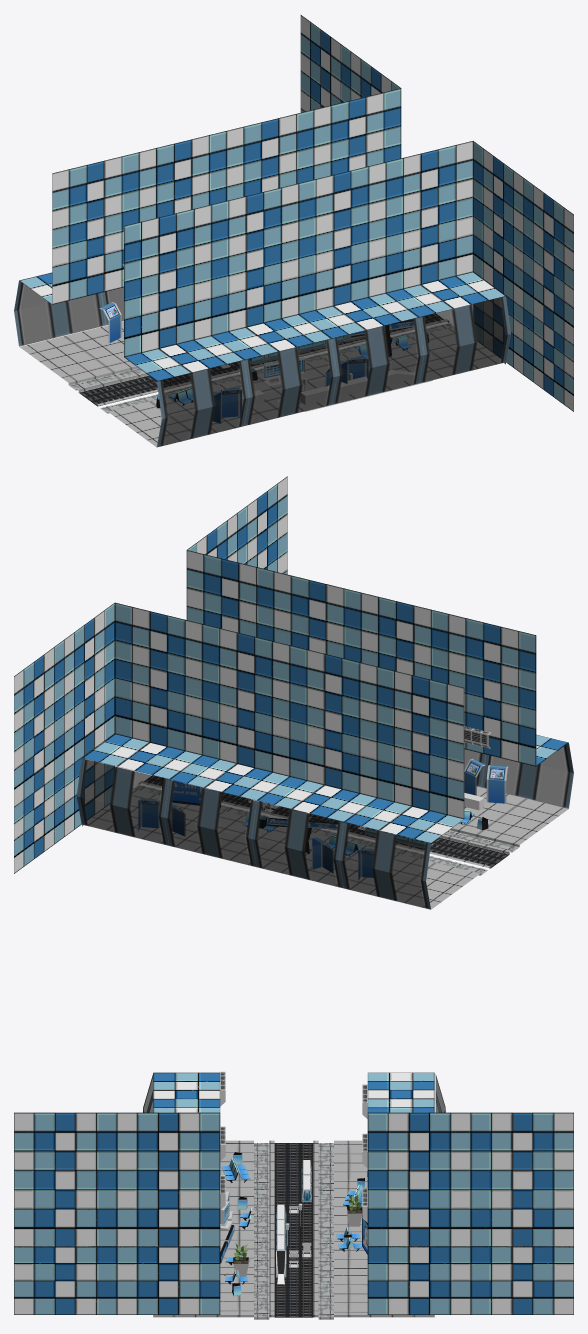
File: subwaysurfmap10test.glb
3 renders of one model, top to bottom at view 1: azimuth 30°, elevation 25°; view 2: azimuth 150°, elevation 25°; view 3: azimuth 270°, elevation 25°, orthographic. The views are drawn at different scales.
Parts seen in each view (by area): view 1: tiledwall, tiledwall.003, tiledwall.005, tiledwall.006, tiledwall.007, tiledwall.001, tiledwall.002, tiledwall.013, tiledwall.012, tiledwall.009, window1, window1.001 (+14 smaller); view 2: tiledwall.012, tiledwall.009, tiledwall.007, tiledwall.013, tiledwall.006, tiledwall.008, tiledwall.014, tiledwall, tiledwall.003, tiledwall.005, window1.007, window1.005 (+16 smaller); view 3: tiledwall.002, tiledwall.001, tiledwall.008, tiledwall.014, tiledwall.015, tiledwall.011, tiledwall.004, tiledwall.010, tiledwall.006, tiledwall.007, tile.015, tile.003 (+14 smaller).
Boxes of the visible parts, x1,y1,x2,y2 form: tiledwall: [386, 141, 505, 317]; tiledwall.003: [298, 162, 418, 338]; tiledwall.005: [211, 183, 330, 359]; tiledwall.006: [124, 205, 243, 380]; tiledwall.007: [20, 152, 139, 304]; tiledwall.001: [473, 141, 523, 308]; tiledwall.002: [523, 178, 573, 345]; tiledwall.013: [314, 88, 401, 179]; tiledwall.012: [226, 109, 313, 200]; tiledwall.009: [139, 131, 226, 221]; window1: [418, 296, 510, 383]; window1.001: [331, 317, 423, 404]; tiledwall.012: [170, 624, 289, 800]; tiledwall.009: [257, 645, 376, 821]; tiledwall.007: [344, 666, 464, 843]; tiledwall.013: [82, 602, 202, 779]; tiledwall.006: [448, 614, 568, 766]; tiledwall.008: [14, 640, 64, 807]; tiledwall.014: [64, 603, 114, 770]; tiledwall: [186, 550, 273, 641]; tiledwall.003: [274, 571, 361, 662]; tiledwall.005: [361, 592, 448, 683]; window1.007: [76, 758, 168, 845]; window1.005: [251, 801, 343, 888]; tiledwall.002: [14, 1112, 117, 1247]; tiledwall.001: [117, 1112, 220, 1247]; tiledwall.008: [470, 1112, 573, 1247]; tiledwall.014: [367, 1112, 470, 1247]; tiledwall.015: [367, 1246, 470, 1314]; tiledwall.011: [470, 1246, 573, 1314]; tiledwall.004: [117, 1246, 220, 1314]; tiledwall.010: [14, 1246, 117, 1314]; tiledwall.006: [153, 1072, 220, 1112]; tiledwall.007: [367, 1072, 434, 1112]; tile.015: [334, 1271, 434, 1317]; tile.003: [153, 1271, 253, 1317].
Size of what is drawn, in the model's own units: 161 by 89.52 by 217.
Materials: 4 (3 with a texture image).
